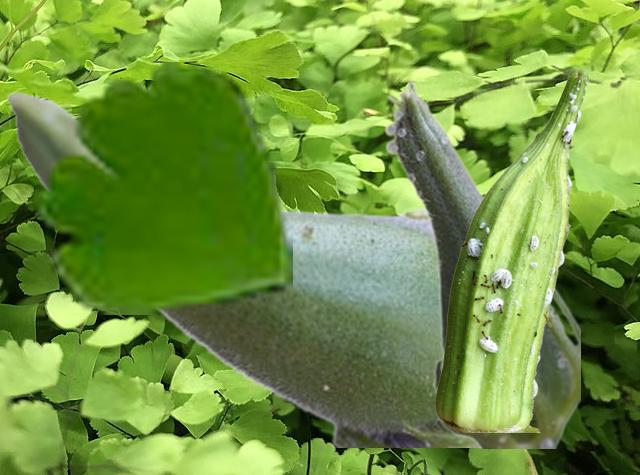okra: (5, 90, 475, 446), (383, 79, 579, 447), (435, 68, 588, 431)
